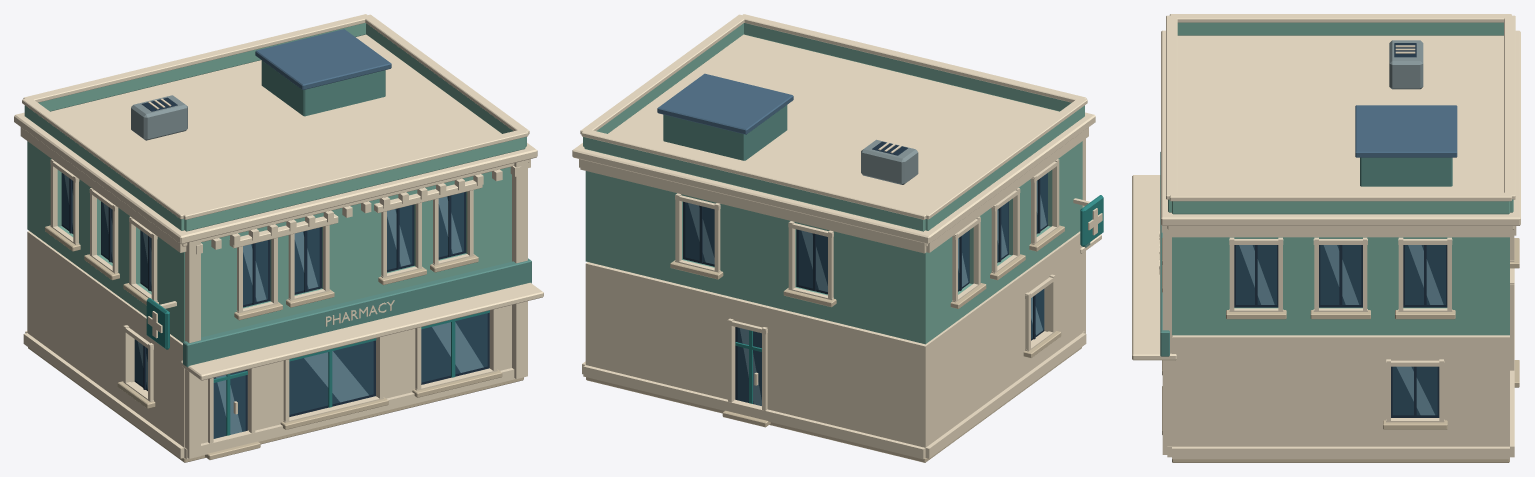
The model's file is neighborhood_pharmacy.glb.
3 views of the same model, side by side, from view 1: azimuth 30°, elevation 25°; view 2: azimuth 150°, elevation 25°; view 3: azimuth 270°, elevation 25° (orthographic). The views are drawn at different scales.
Parts seen in each view (by area): view 1: NeighborhoodPharmacy_StaticMesh; view 2: NeighborhoodPharmacy_StaticMesh; view 3: NeighborhoodPharmacy_StaticMesh.
Part boxes in pixels (x1,y1,x2,y2): NeighborhoodPharmacy_StaticMesh: (14, 14, 543, 462); NeighborhoodPharmacy_StaticMesh: (572, 14, 1103, 462); NeighborhoodPharmacy_StaticMesh: (1132, 14, 1520, 462).
Bounding box in the file's own units: 10.9 × 7.49 × 9.2.
